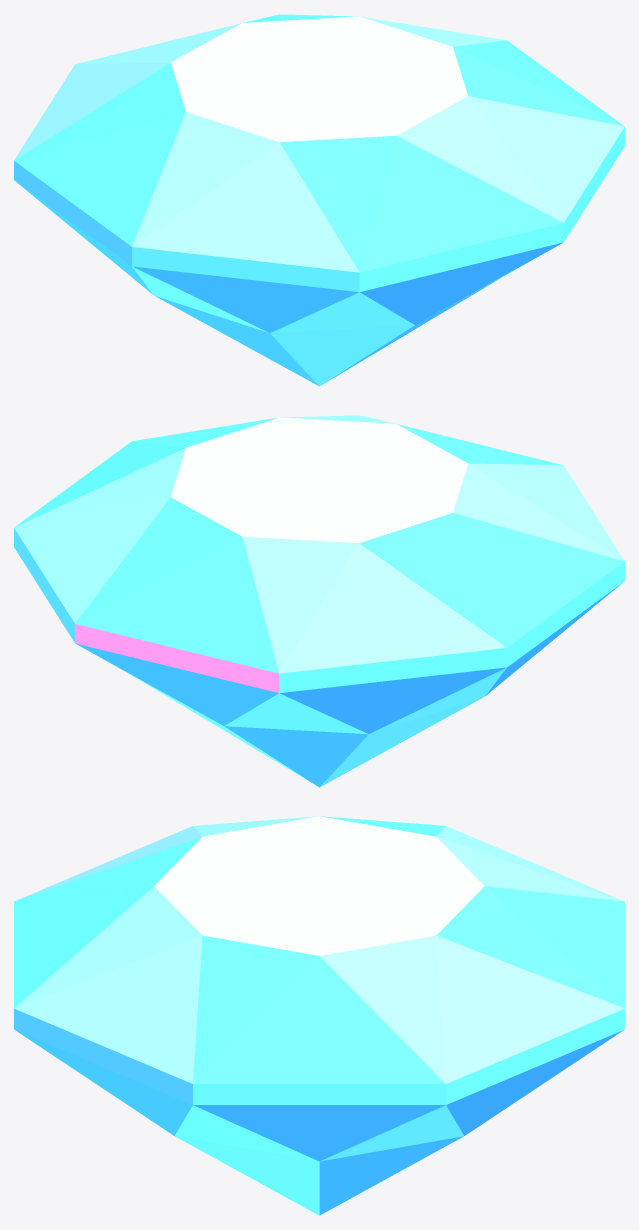
The model's file is diamant.glb.
3 views of the same model, one above another, from view 1: azimuth 30°, elevation 25°; view 2: azimuth 150°, elevation 25°; view 3: azimuth 270°, elevation 25° (orthographic). The views are drawn at different scales.
Parts seen in each view (by area): view 1: Diamant; view 2: Diamant; view 3: Diamant.
Boxes of the visible parts, <box> form: Diamant: <box>14,14,624,386</box>; Diamant: <box>14,415,624,787</box>; Diamant: <box>14,816,624,1215</box>.
Bounding box in the file's own units: 1.85 × 1.1 × 1.85.
